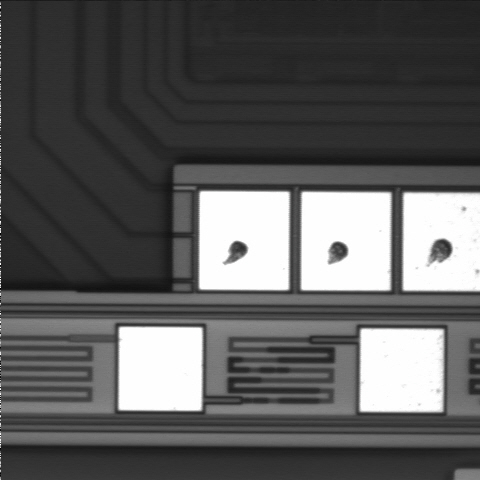pad: (199, 191, 289, 290), (301, 192, 391, 290), (119, 327, 202, 411), (360, 329, 443, 412)
